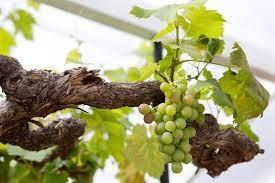Grape Unripe: (138, 75, 203, 172)
